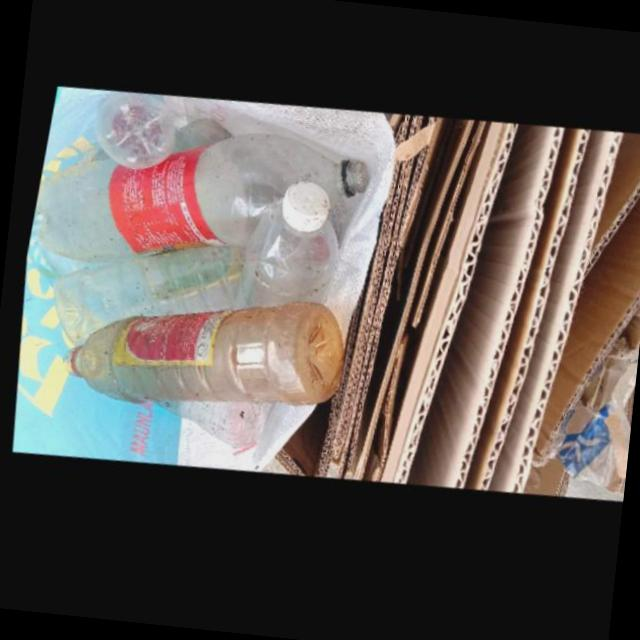carton: (403, 126, 555, 491), (378, 124, 510, 487), (483, 130, 613, 495), (460, 129, 584, 493), (313, 117, 435, 484), (526, 166, 640, 469), (621, 298, 640, 352)
chai_nhua_pet: (29, 140, 361, 272), (59, 307, 340, 412), (48, 252, 237, 356), (230, 187, 332, 317), (87, 100, 167, 177), (149, 408, 267, 455)
